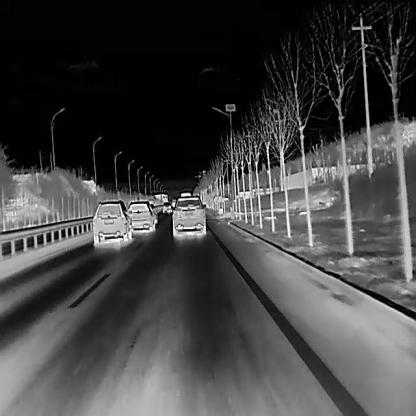car: (90, 198, 132, 244), (169, 192, 205, 235), (125, 200, 155, 232), (160, 201, 172, 213)
